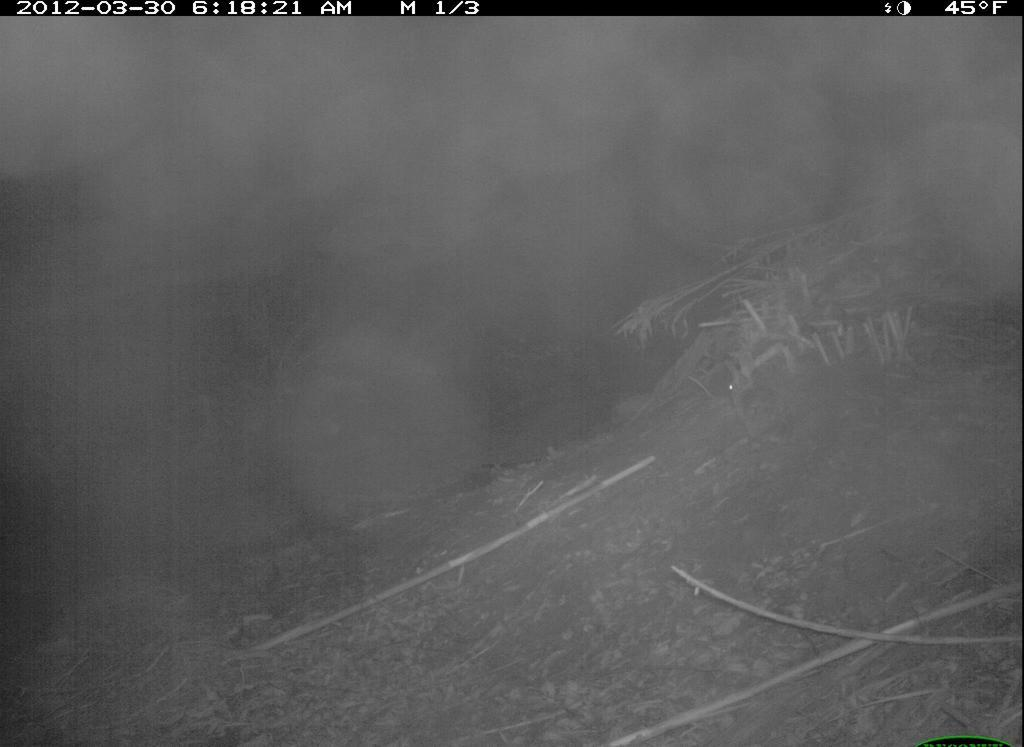rabbit: (697, 336, 779, 428)
